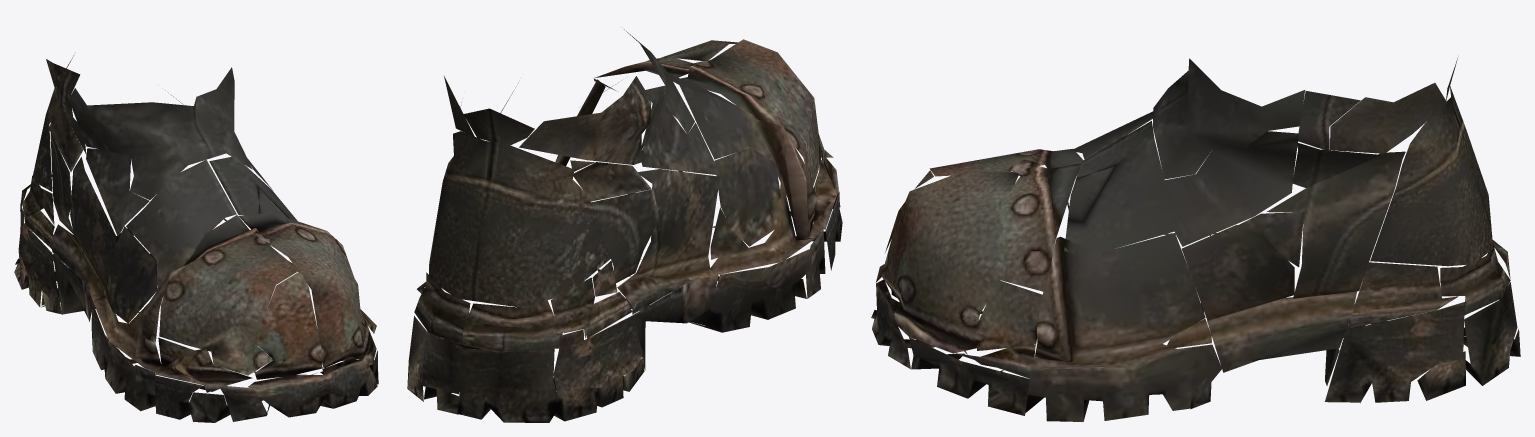
File: a_sluice_boots_foot.glb
The picture shows the model from 3 angles, left to right: view 1: azimuth 30°, elevation 25°; view 2: azimuth 150°, elevation 25°; view 3: azimuth 270°, elevation 25°; orthographic projection. The views are drawn at different scales.
Visible parts, largest first — view 1: tripo_node_892a7d13-8db3-4021-8cfb-fa8c4bf19114; view 2: tripo_node_892a7d13-8db3-4021-8cfb-fa8c4bf19114; view 3: tripo_node_892a7d13-8db3-4021-8cfb-fa8c4bf19114.
Boxes of the visible parts, x1,y1,x2,y2 form: tripo_node_892a7d13-8db3-4021-8cfb-fa8c4bf19114: [14, 52, 378, 422]; tripo_node_892a7d13-8db3-4021-8cfb-fa8c4bf19114: [407, 29, 842, 422]; tripo_node_892a7d13-8db3-4021-8cfb-fa8c4bf19114: [871, 58, 1520, 421].
Bounding box in the file's own units: 0.1691 × 0.1798 × 0.344.
Materials: 1 (1 with a texture image).
